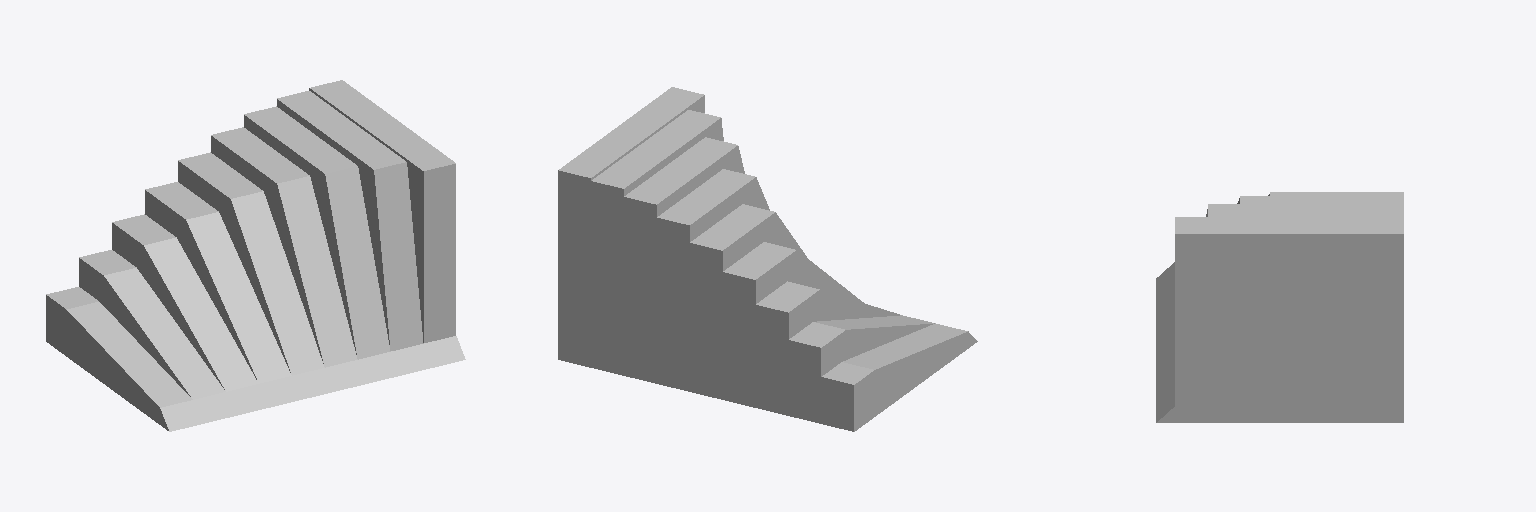
The model's file is ramps.obj.
The picture shows the model from 3 angles: view 1: azimuth 30°, elevation 25°; view 2: azimuth 150°, elevation 25°; view 3: azimuth 270°, elevation 25°; orthographic projection.
Parts seen in each view (by area): view 1: Ramps; view 2: Ramps; view 3: Ramps.
Boxes of the visible parts, <box> form: Ramps: <box>46,80,465,431</box>; Ramps: <box>558,87,977,431</box>; Ramps: <box>1156,192,1403,422</box>.
Size of the model in its own units: 18 by 11 by 13.